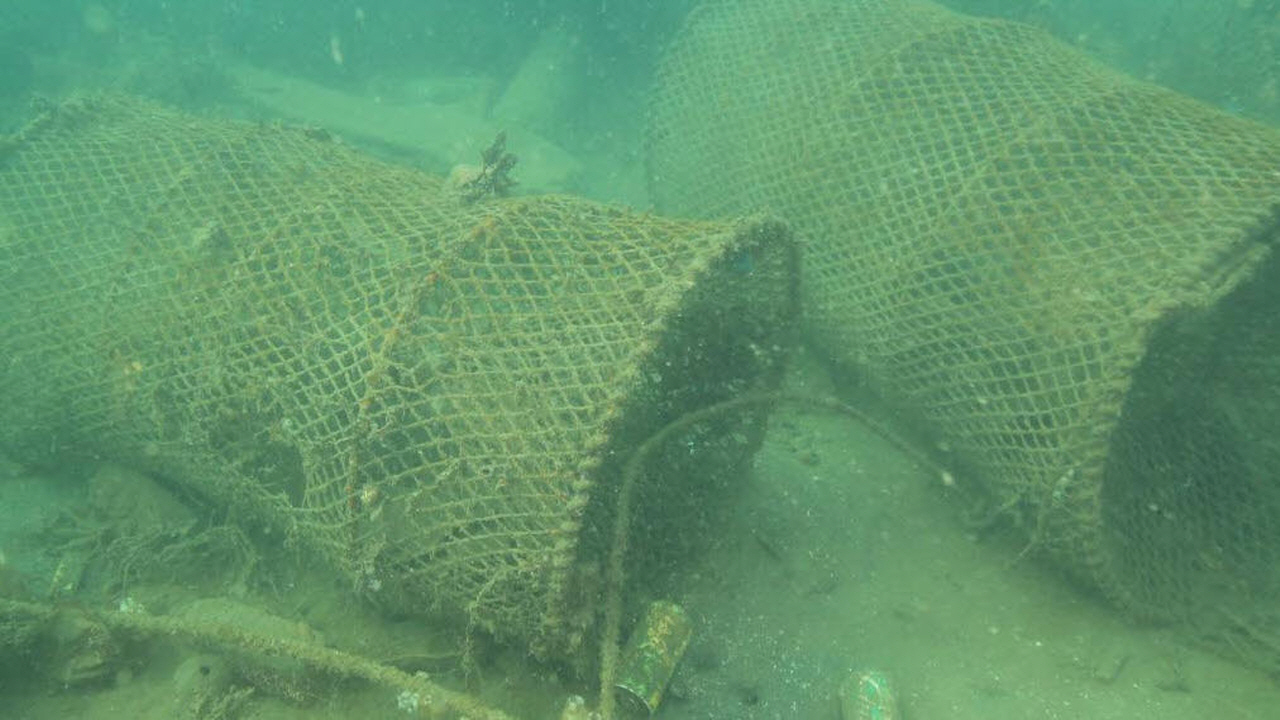spring fish trap: (0, 86, 801, 670), (643, 0, 1280, 632)
